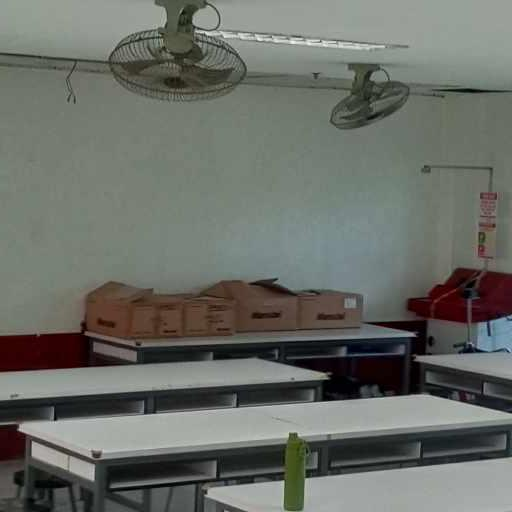Fan: (97, 0, 253, 115), (323, 54, 424, 140)
